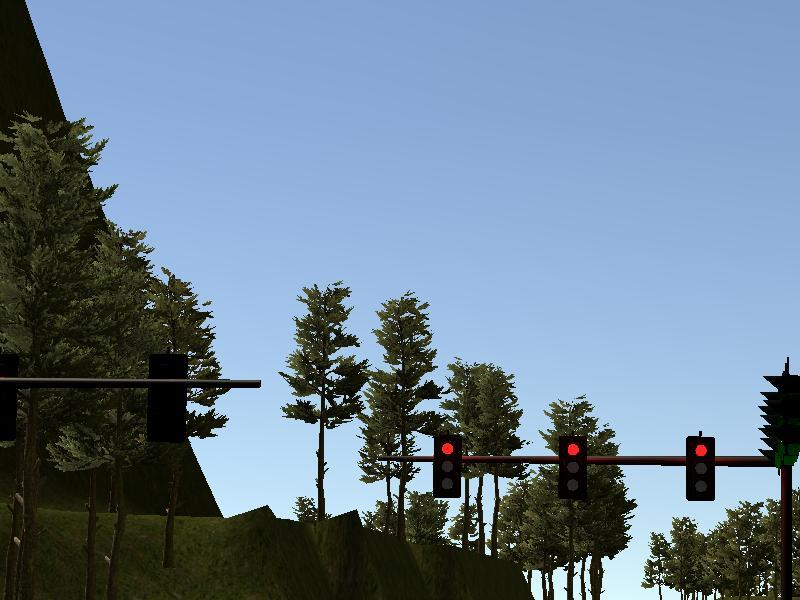Red: (432, 433, 461, 497), (685, 436, 713, 501), (561, 435, 585, 501)
